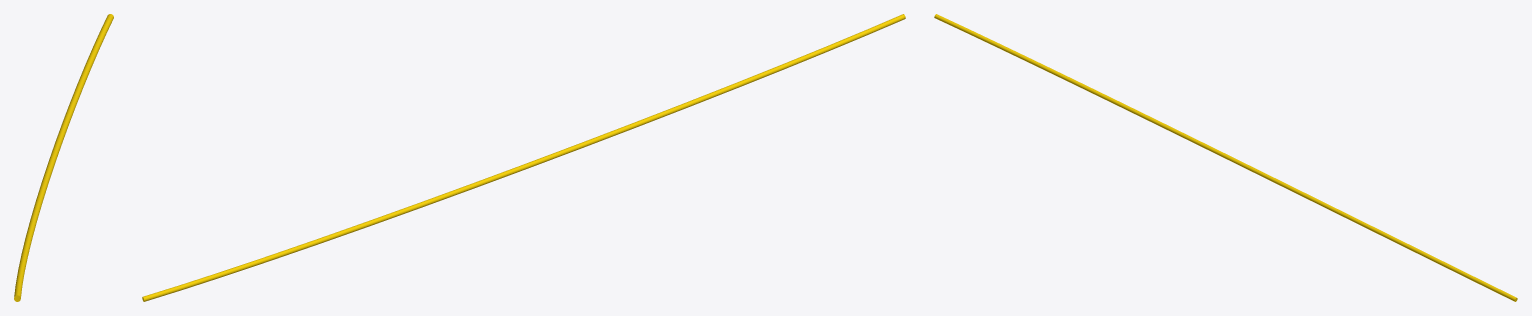
Rendered from Event_421115418_track_41.fbx.
3 renders of one model, left to right at view 1: azimuth 90°, elevation 25°; view 2: azimuth 210°, elevation 25°; view 3: azimuth 330°, elevation 25°, orthographic. The views are drawn at different scales.
Parts seen in each view (by area): view 1: Model; view 2: Model; view 3: Model.
Boxes of the visible parts, x1,y1,x2,y2 form: Model: (14,14,113,301); Model: (142,14,905,301); Model: (934,14,1517,301).
Bounding box in the file's own units: 6.24 × 1.13 × 0.5837.
